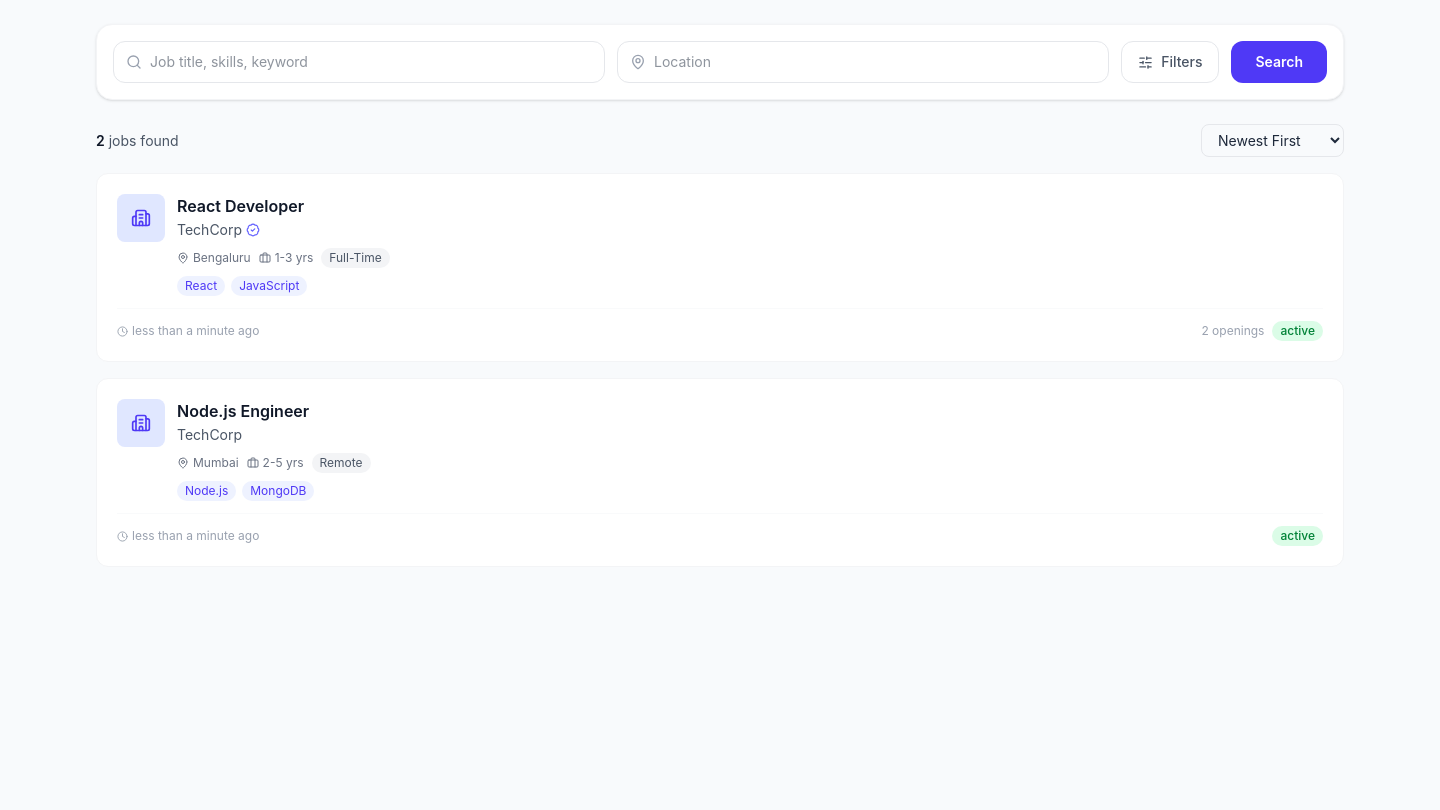
Scenario: Jobs page — filter panel › toggles the filter panel when Filters button is clicked
Expected: the heading "React Developer" is shown, top-left (177, 194), bottom-right (304, 218)
Click the button "Filters".
click(1170, 62)  # box top-left (1121, 41), bottom-right (1219, 83)
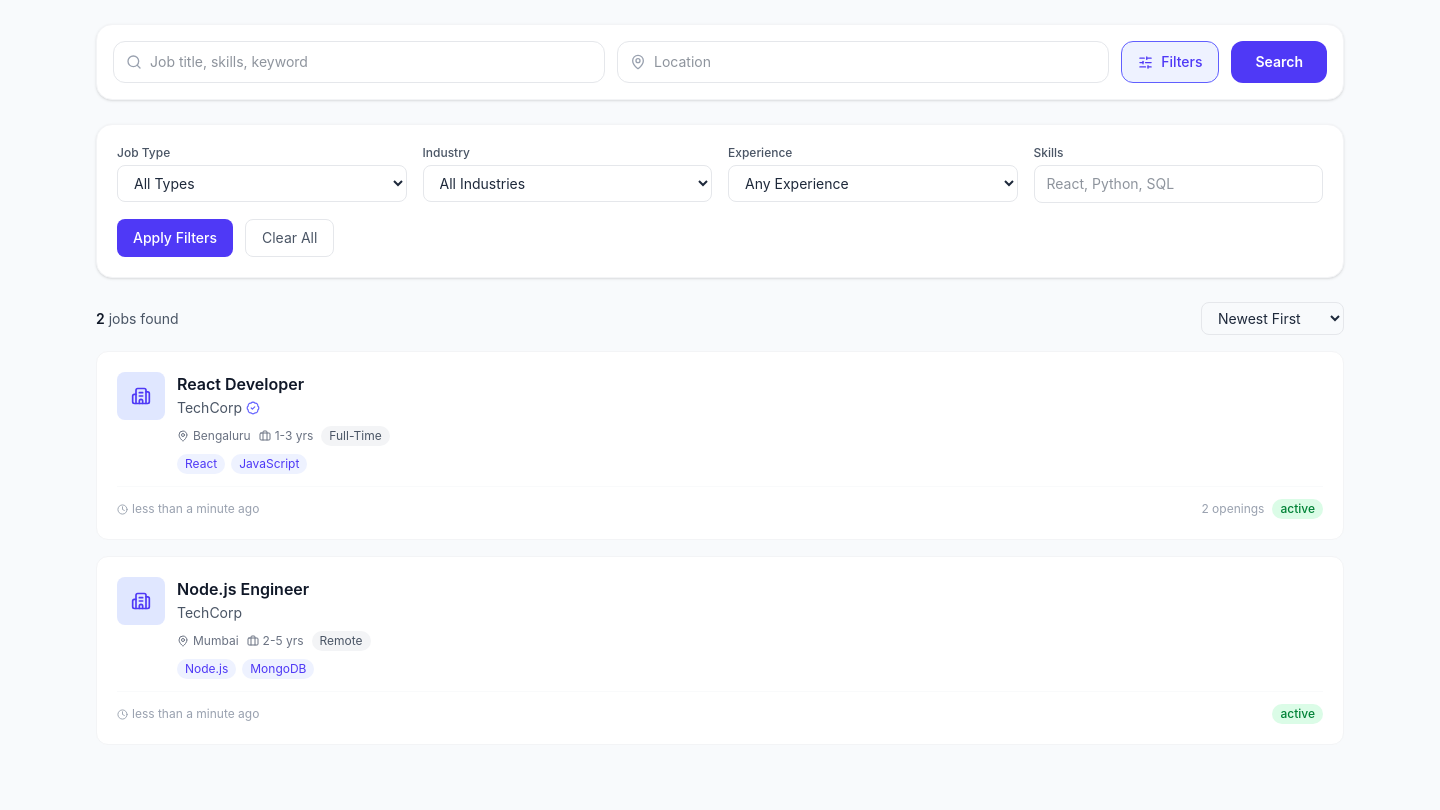
Expected: the text "Job Type" is shown, top-left (117, 145), bottom-right (170, 160)
